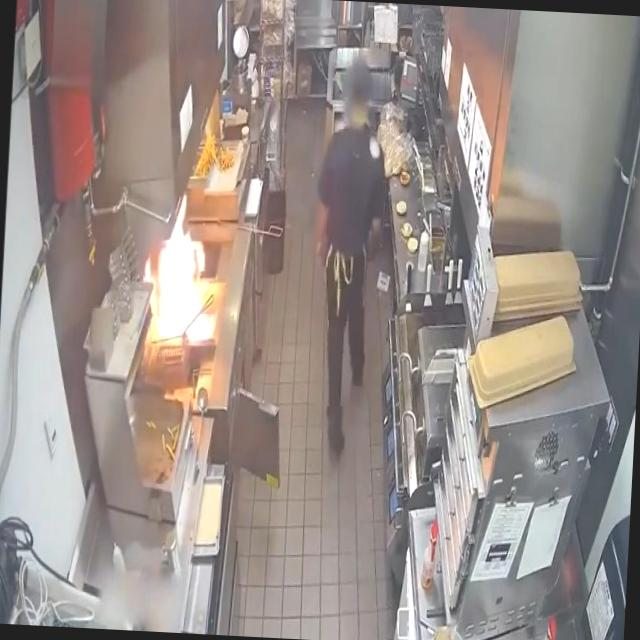fire: (130, 197, 234, 376)
